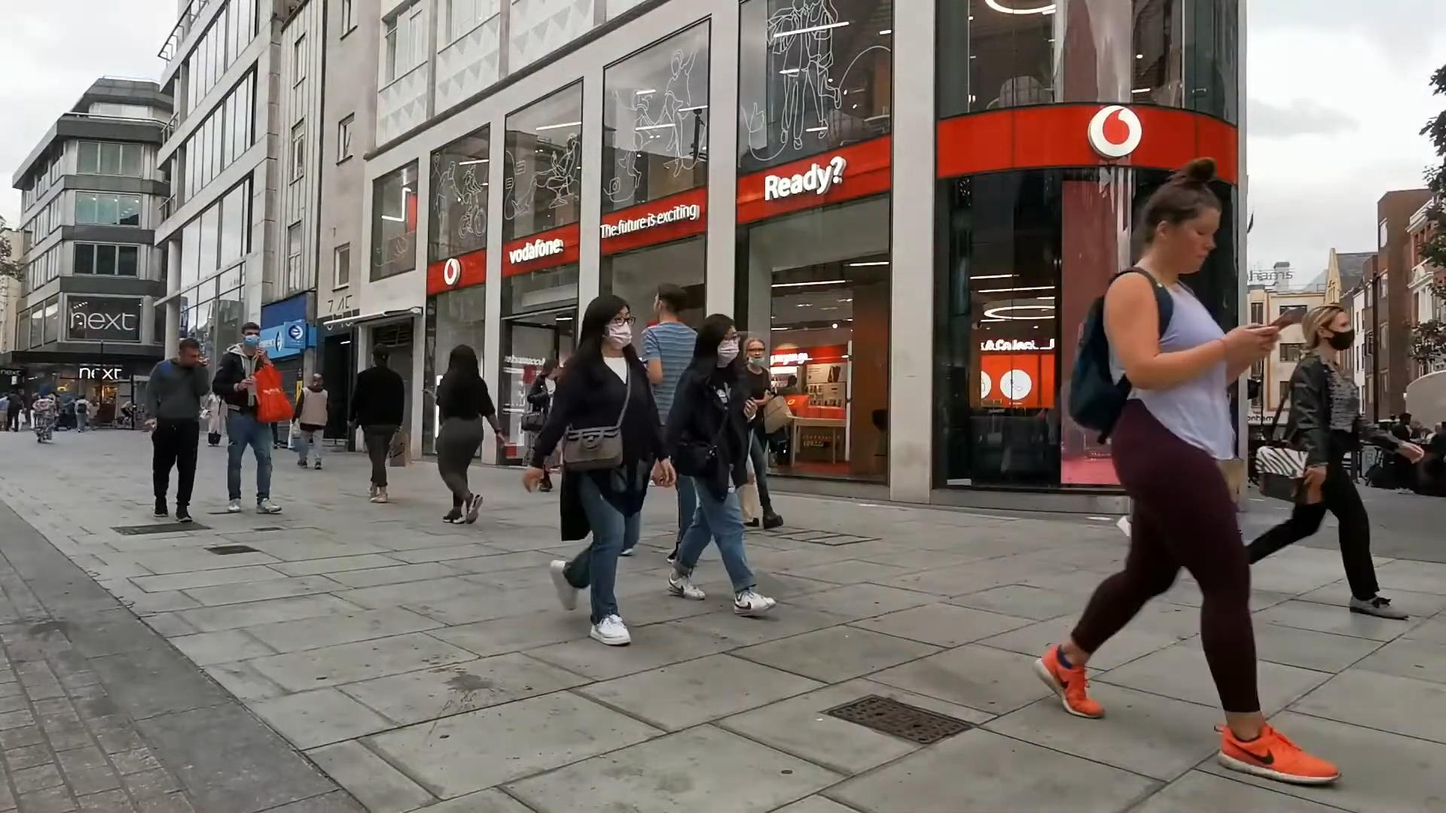no-helmet: (1144, 157, 1221, 274), (579, 293, 636, 351), (1302, 303, 1355, 352), (694, 313, 740, 369), (652, 284, 688, 320), (448, 344, 480, 379), (744, 336, 766, 367), (178, 338, 199, 367), (371, 342, 390, 371), (241, 321, 261, 347), (539, 358, 560, 381)
